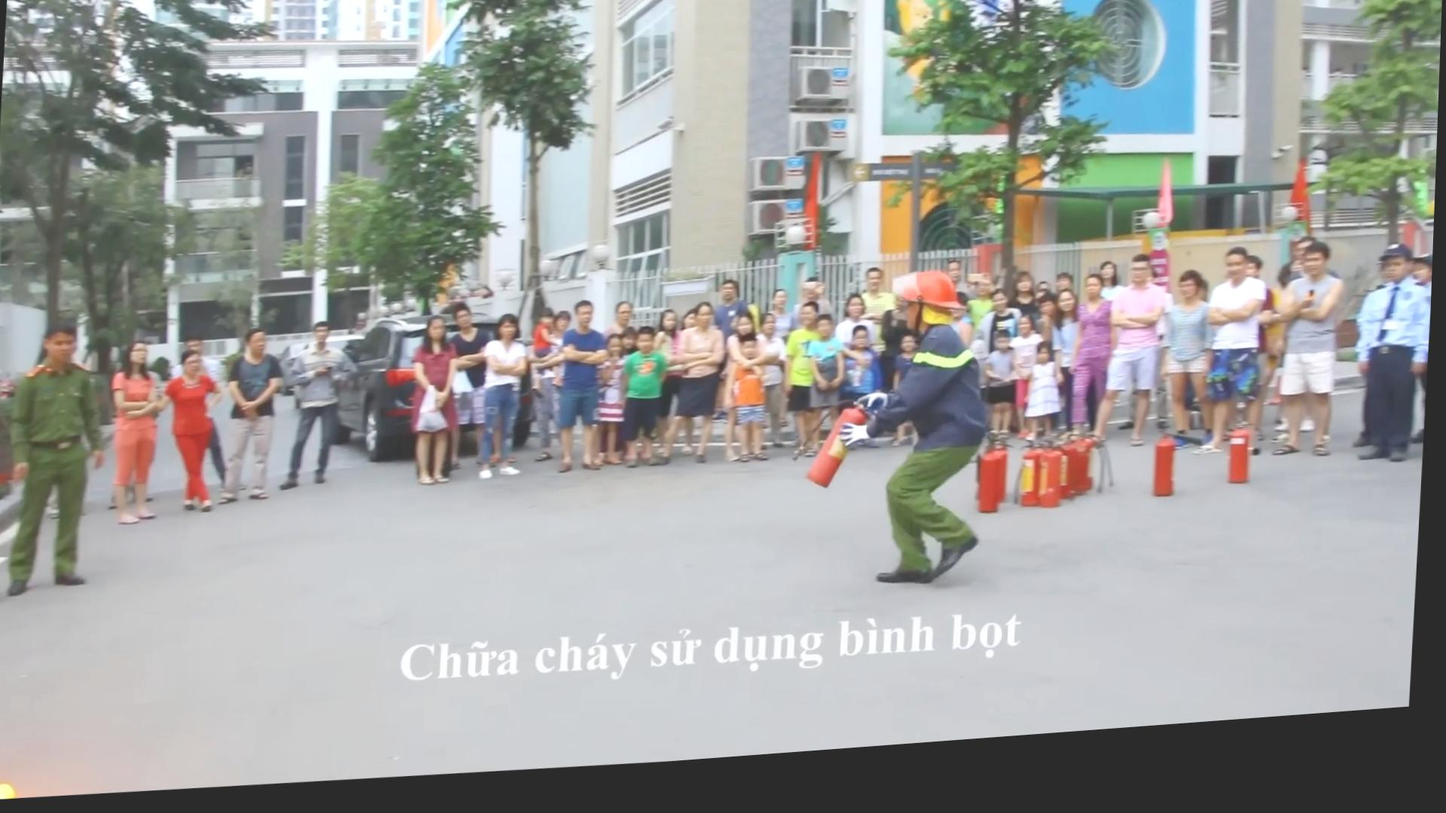FireExtinguisher: (801, 415, 880, 509), (1064, 441, 1128, 524), (971, 442, 1025, 536), (1023, 458, 1077, 532), (1221, 441, 1268, 512), (1151, 439, 1189, 522)
not: (171, 342, 237, 512), (112, 328, 164, 505), (1107, 264, 1172, 391), (415, 310, 469, 452), (1076, 282, 1116, 451), (723, 352, 780, 446), (799, 150, 838, 268), (27, 324, 100, 387), (1284, 172, 1321, 249), (1390, 223, 1437, 280), (1009, 373, 1054, 428), (1158, 168, 1185, 249), (529, 307, 562, 368), (966, 245, 1003, 294), (0, 456, 30, 500)
